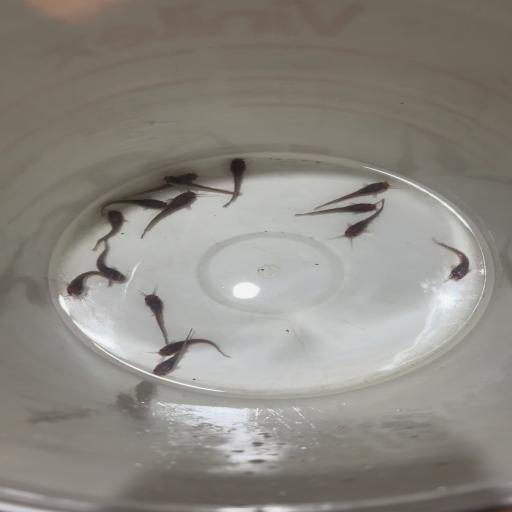lele: (139, 190, 201, 239), (330, 198, 387, 245), (311, 179, 397, 210), (134, 285, 175, 344), (118, 170, 202, 198), (150, 328, 196, 377), (160, 174, 246, 198), (430, 236, 472, 283), (291, 198, 386, 218), (144, 337, 234, 358), (88, 208, 130, 251), (220, 155, 250, 208), (90, 196, 168, 216), (94, 239, 129, 283), (62, 270, 114, 299)
